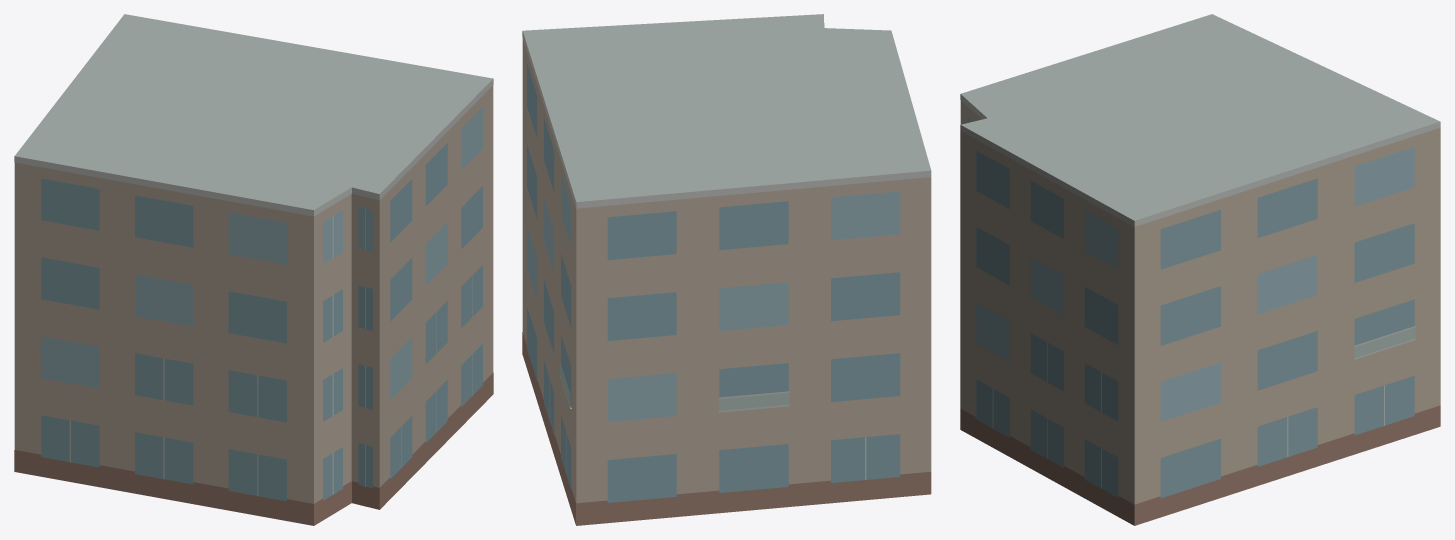
The model's file is survey-upis-32589083.glb.
3 views of the same model, side by side, from view 1: azimuth 30°, elevation 25°; view 2: azimuth 150°, elevation 25°; view 3: azimuth 270°, elevation 25° (orthographic). The views are drawn at different scales.
Visible parts, largest first — view 1: survey-upis-32589083.tmp; view 2: survey-upis-32589083.tmp; view 3: survey-upis-32589083.tmp.
Part boxes in pixels (x1,y1,x2,y2): survey-upis-32589083.tmp: (14, 14, 493, 525); survey-upis-32589083.tmp: (522, 14, 931, 525); survey-upis-32589083.tmp: (960, 14, 1440, 525).
Bounding box in the file's own units: 17.76 × 12.2 × 17.41.
